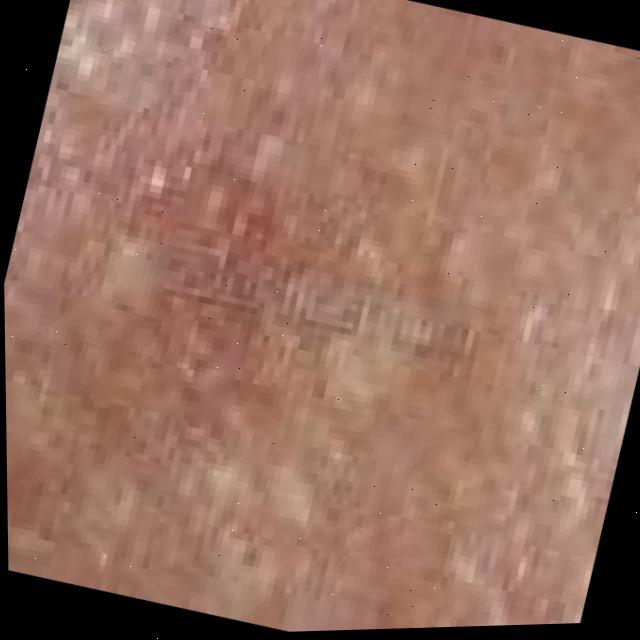Melasma: (100, 139, 323, 396)
